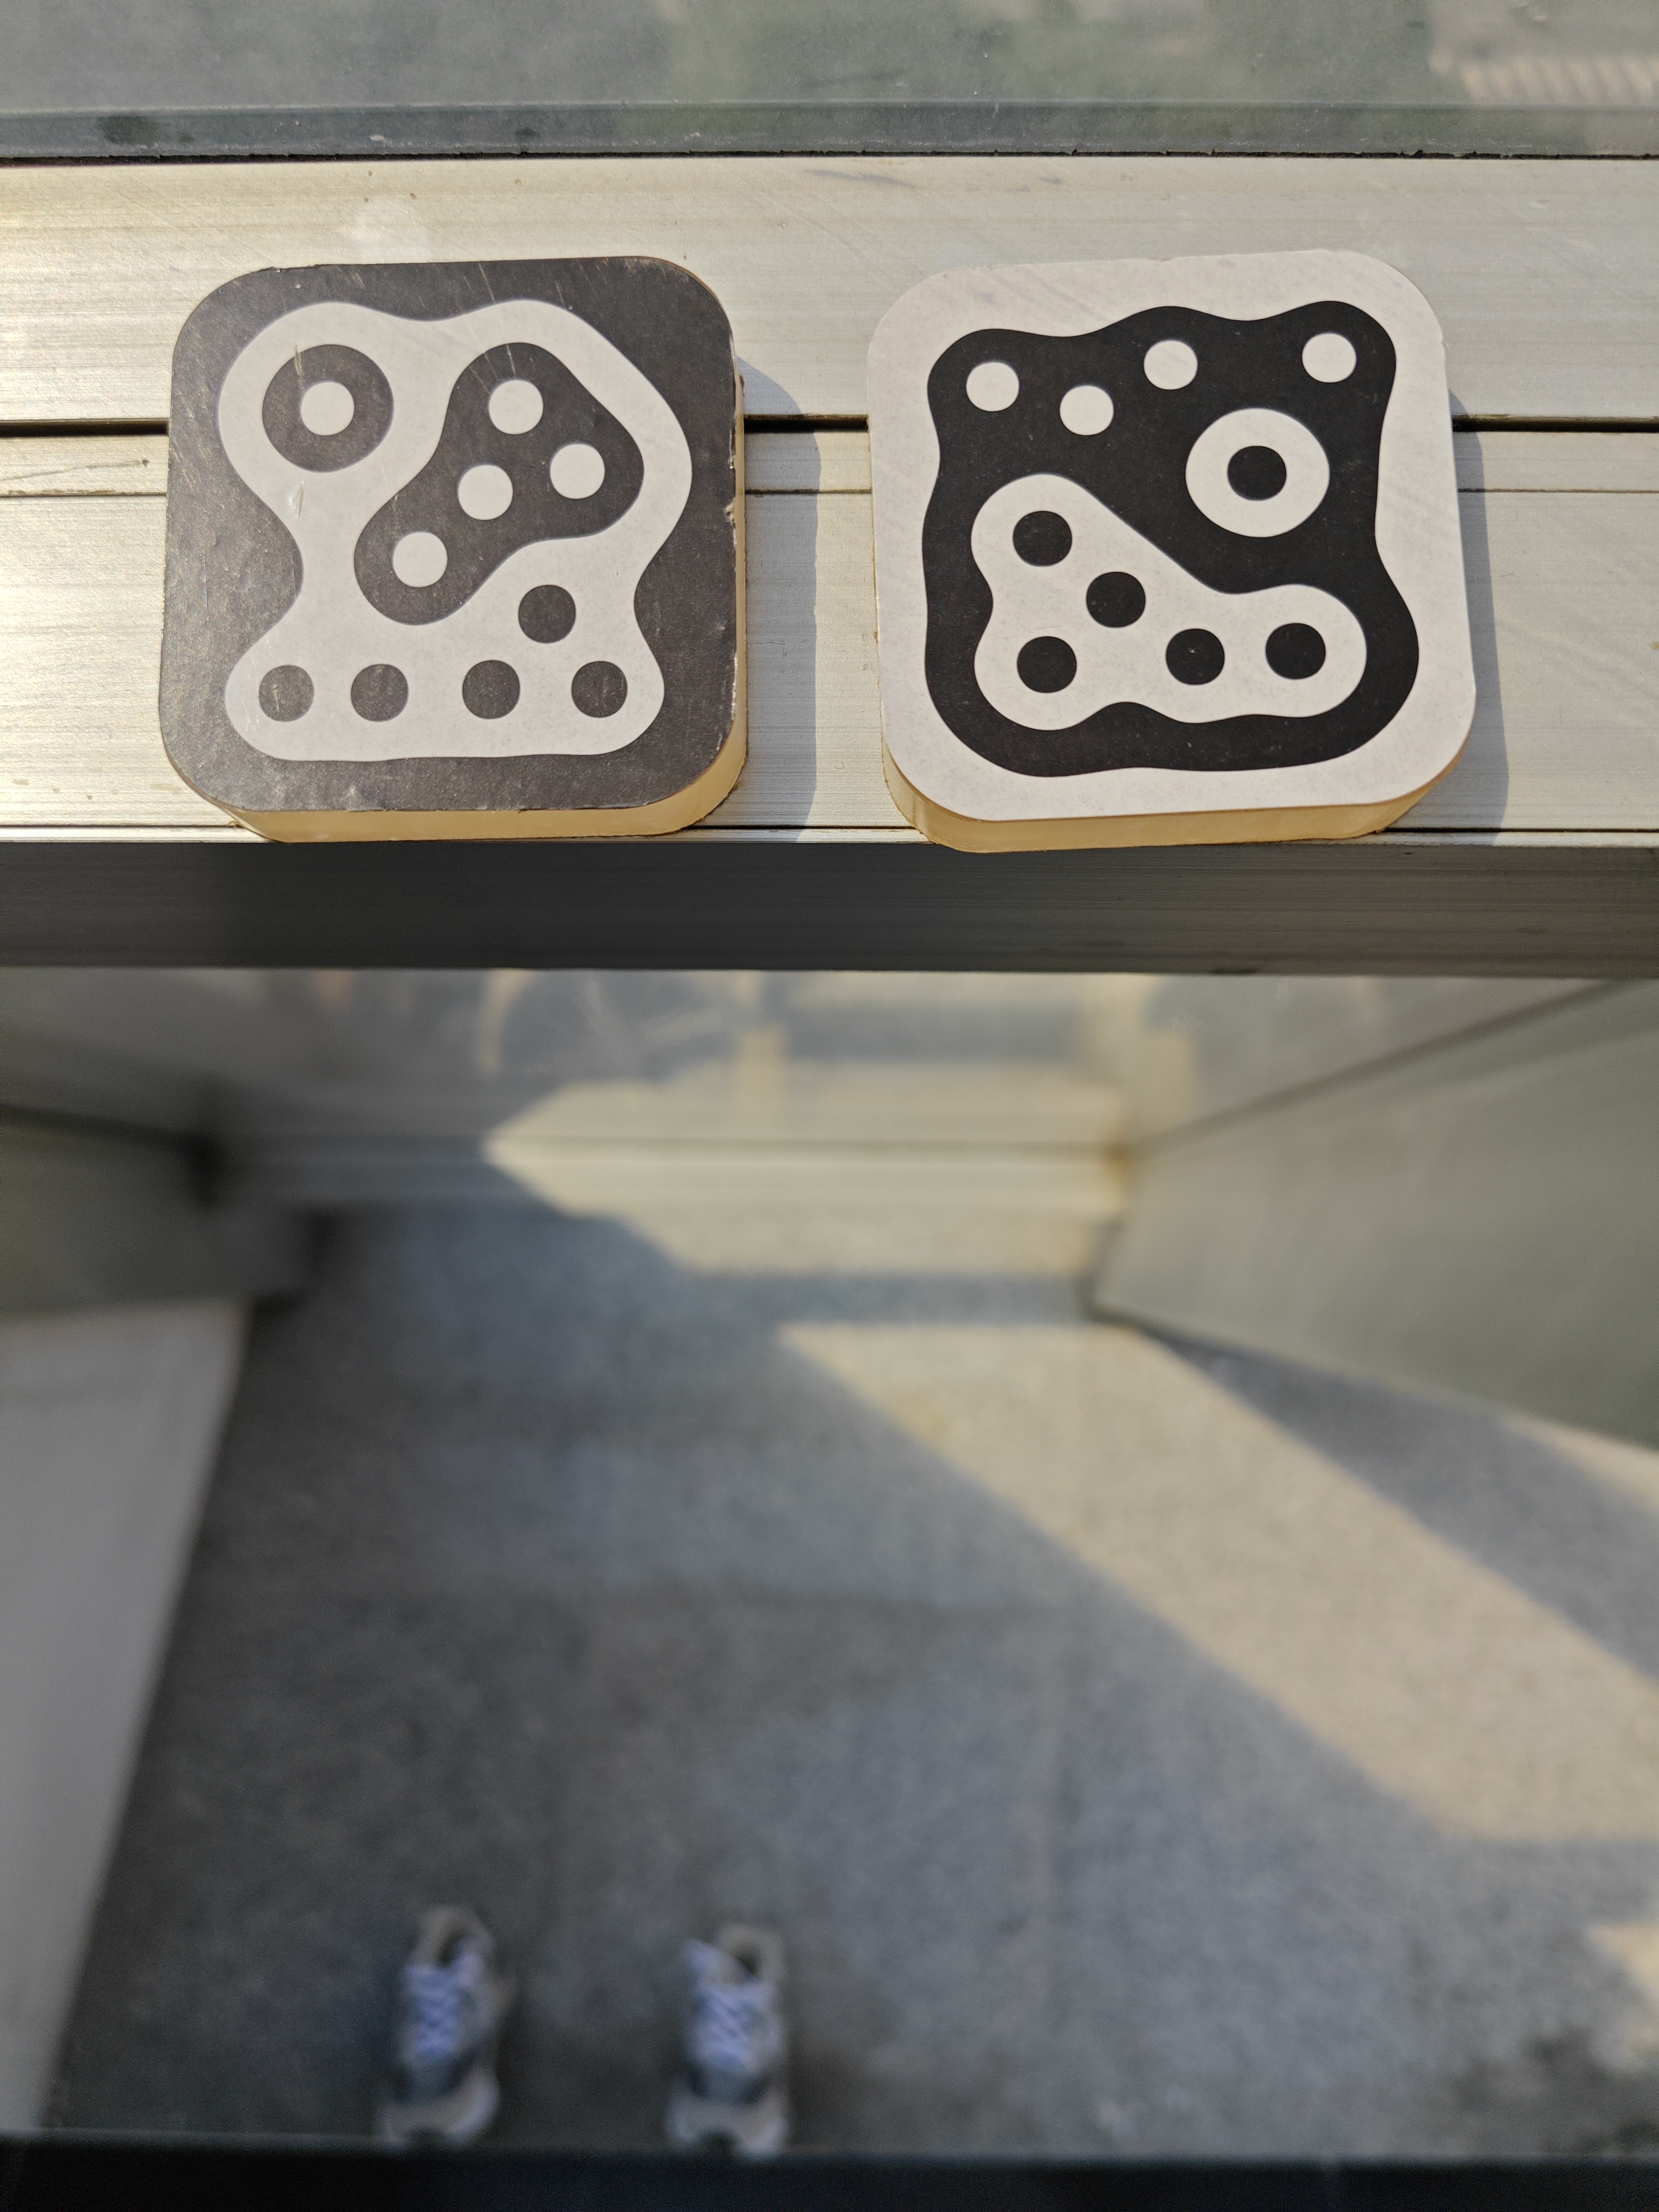mark1: (910, 300, 1425, 779)
mark2: (202, 298, 699, 765)
